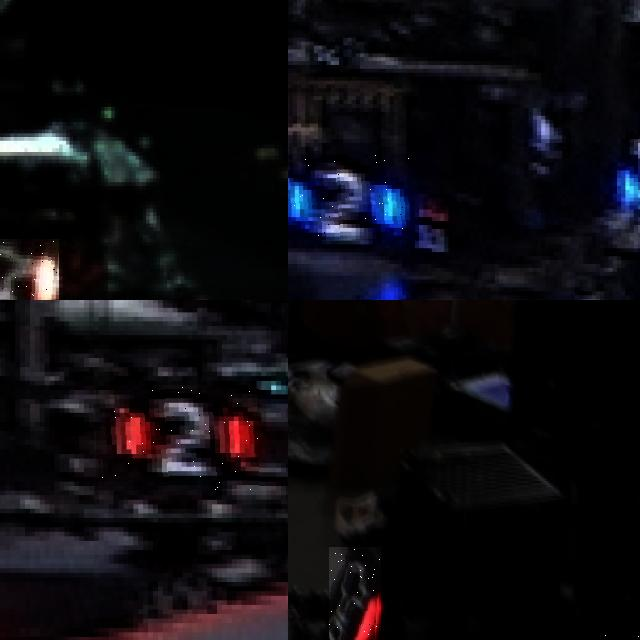B2: (288, 154, 410, 240)
R2: (96, 386, 259, 490)
Rs: (329, 547, 381, 640), (0, 238, 59, 300)
